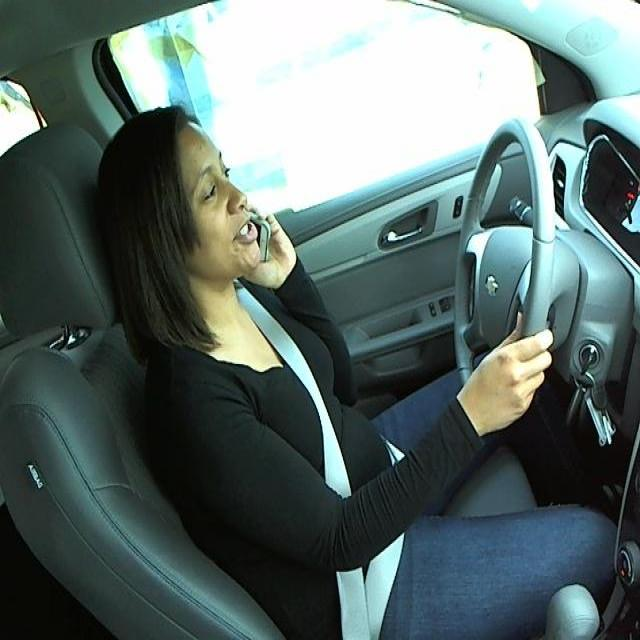using_phone: (86, 27, 302, 365)
